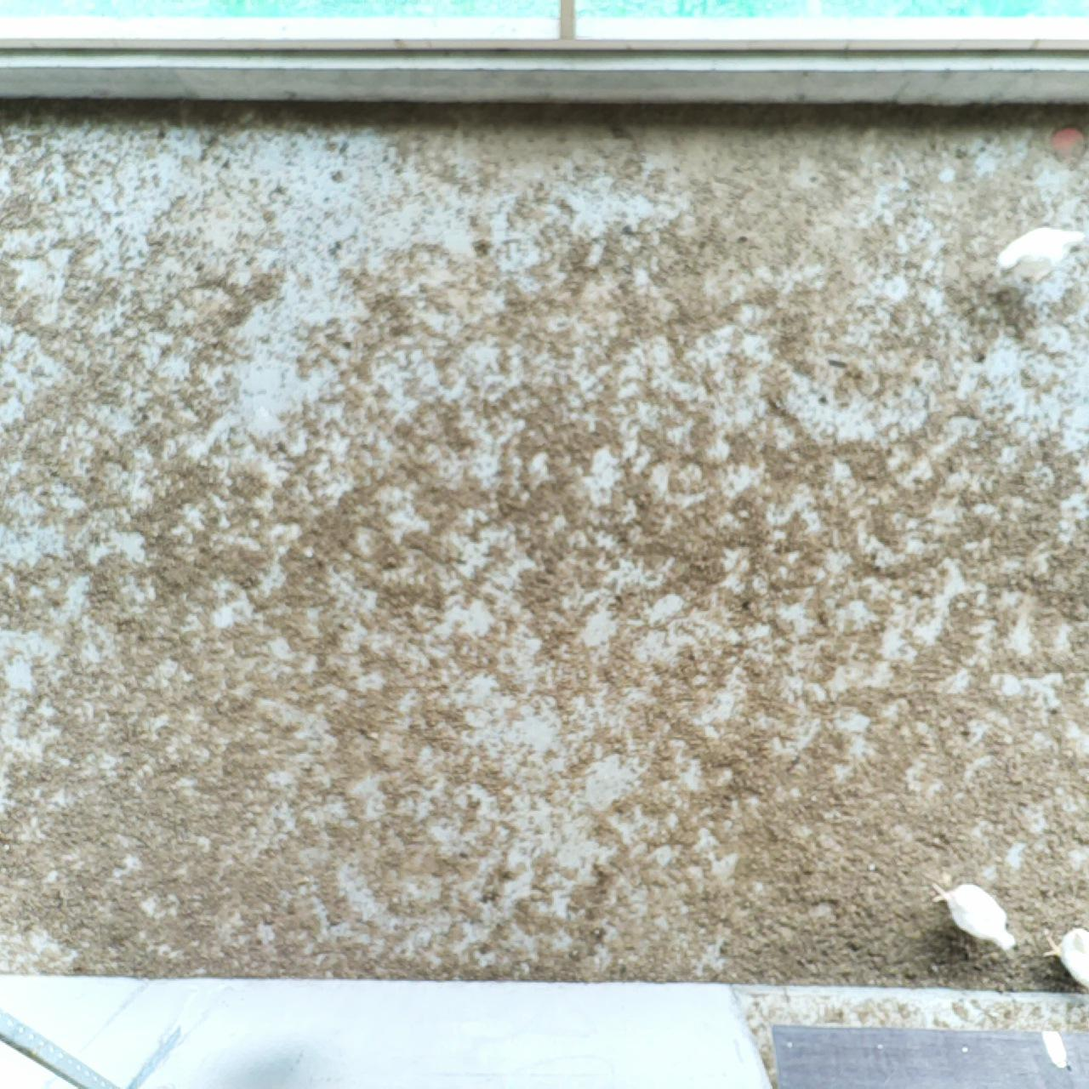chicken: (997, 216, 1089, 299), (932, 876, 1019, 962), (1041, 922, 1089, 995)
